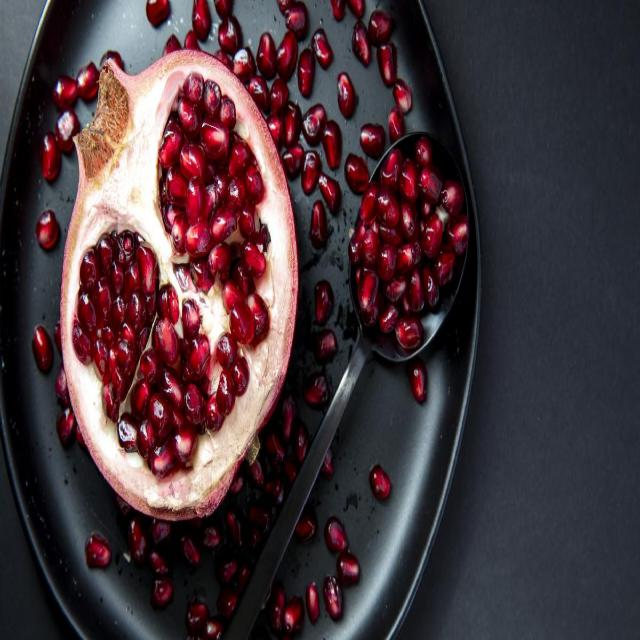pomegranate: (56, 50, 303, 523)
